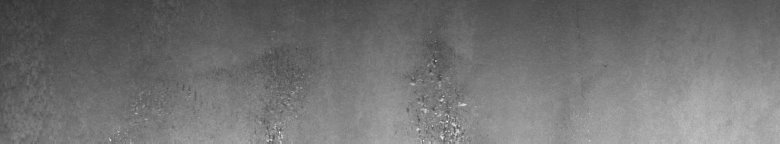hc: (404, 41, 480, 136)
